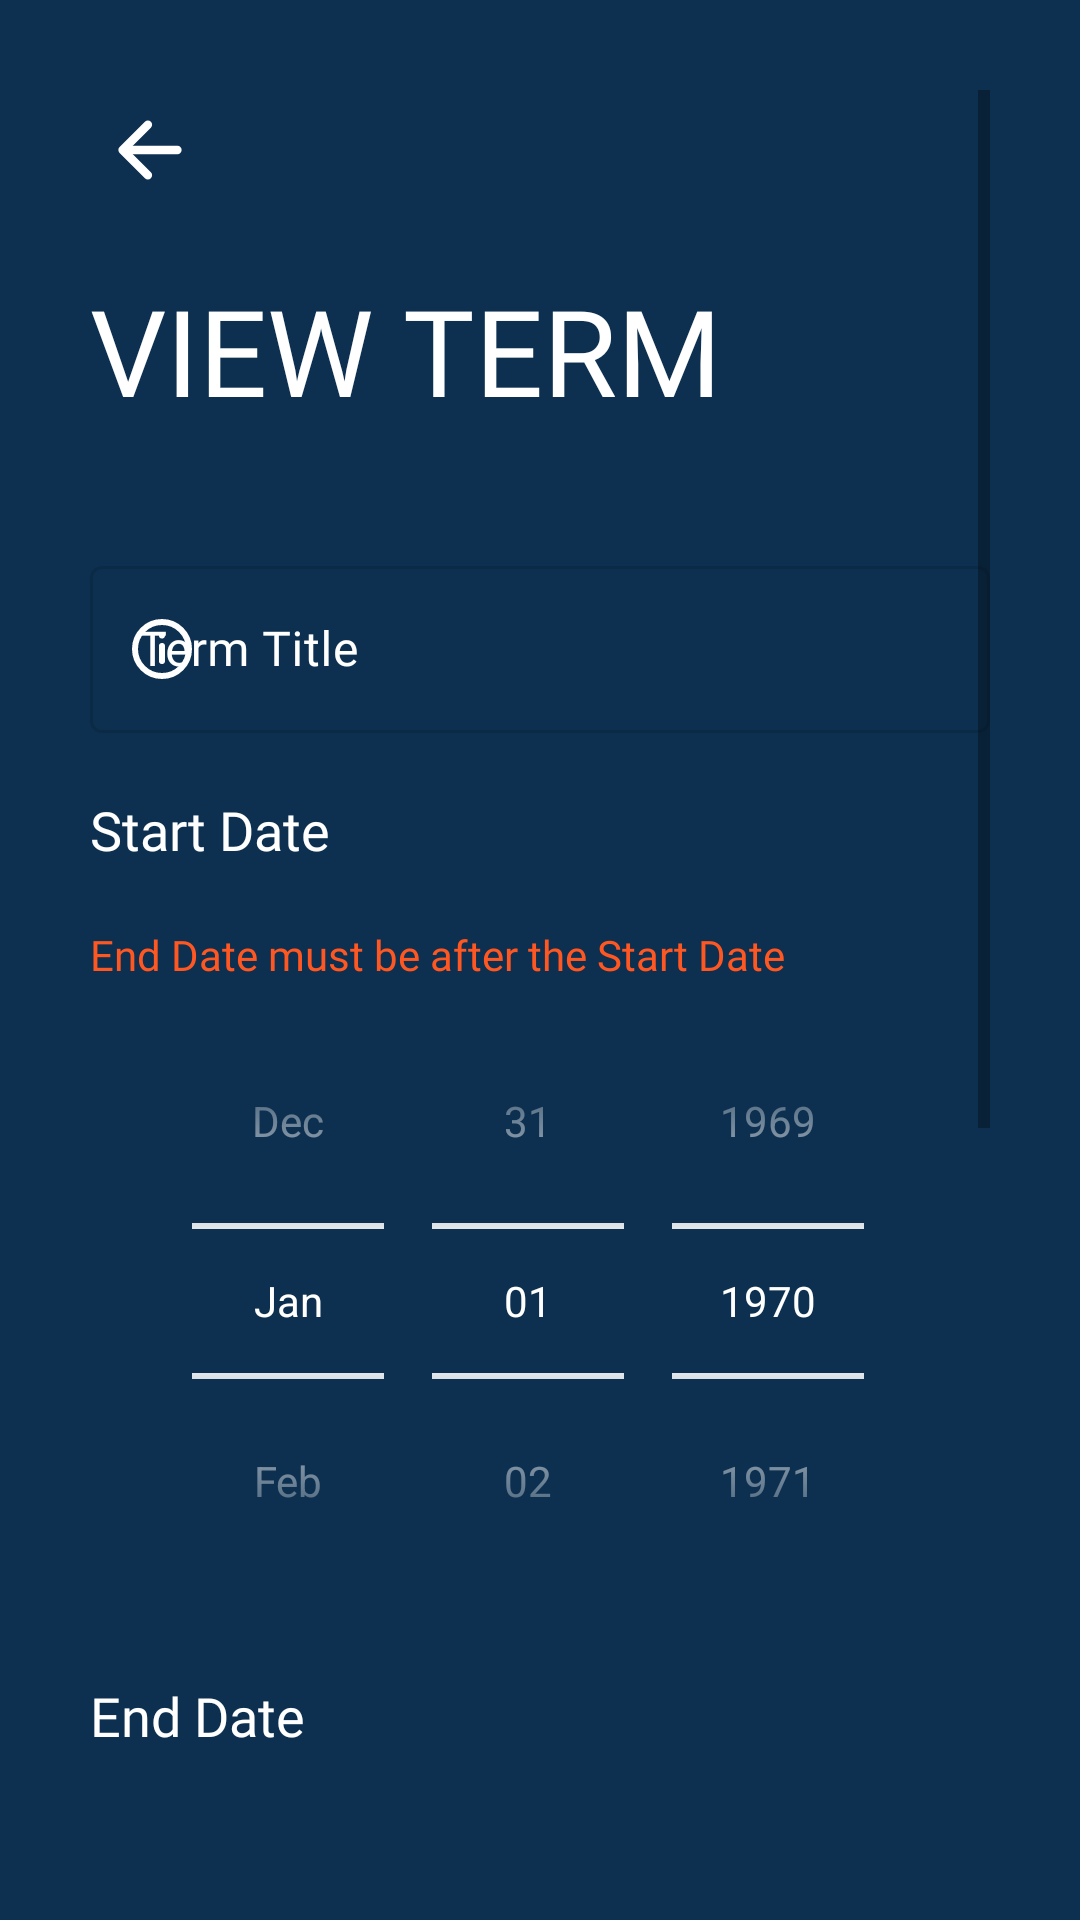

Icon click points for this 1080px x 1920px phone screenshot, format (x,y):
arrow back: (150,150)
